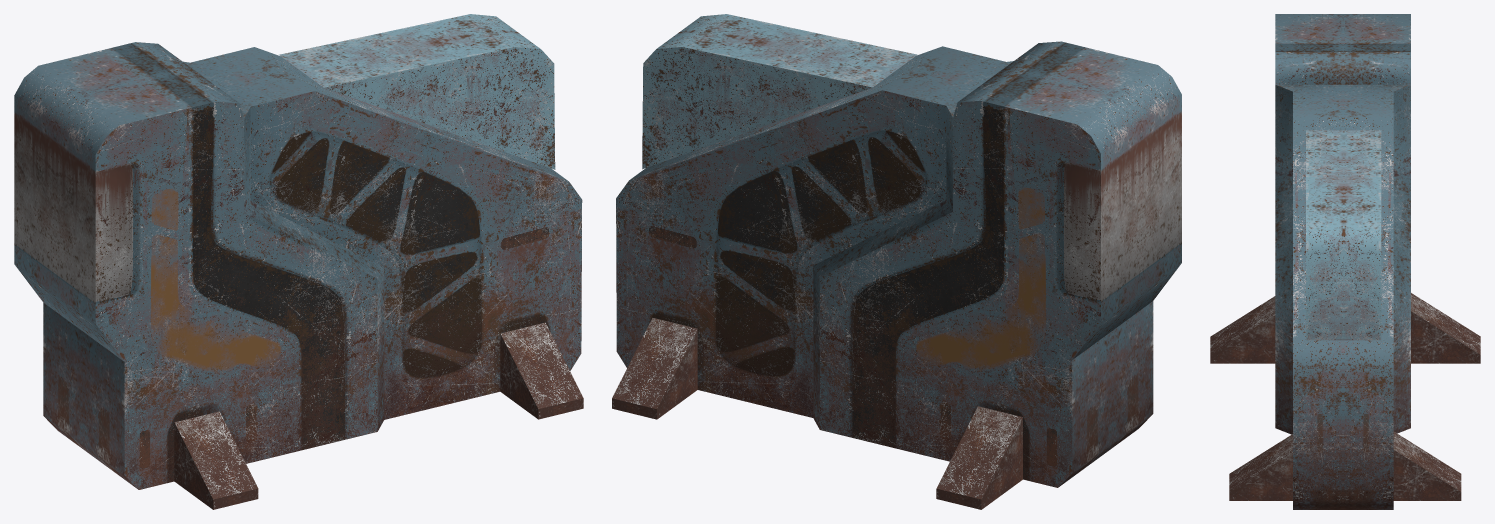
File: LP_3dsmax_Security_Wall.fbx
3 renders of one model, left to right at view 1: azimuth 30°, elevation 25°; view 2: azimuth 150°, elevation 25°; view 3: azimuth 270°, elevation 25°, orthographic. The views are drawn at different scales.
Parts seen in each view (by area): view 1: polySurface3; view 2: polySurface3; view 3: polySurface3.
Boxes of the visible parts, x1,y1,x2,y2 form: polySurface3: (14,14,583,509); polySurface3: (612,14,1181,509); polySurface3: (1210,14,1480,509).
Bounding box in the file's own units: 750 × 533 × 423.
